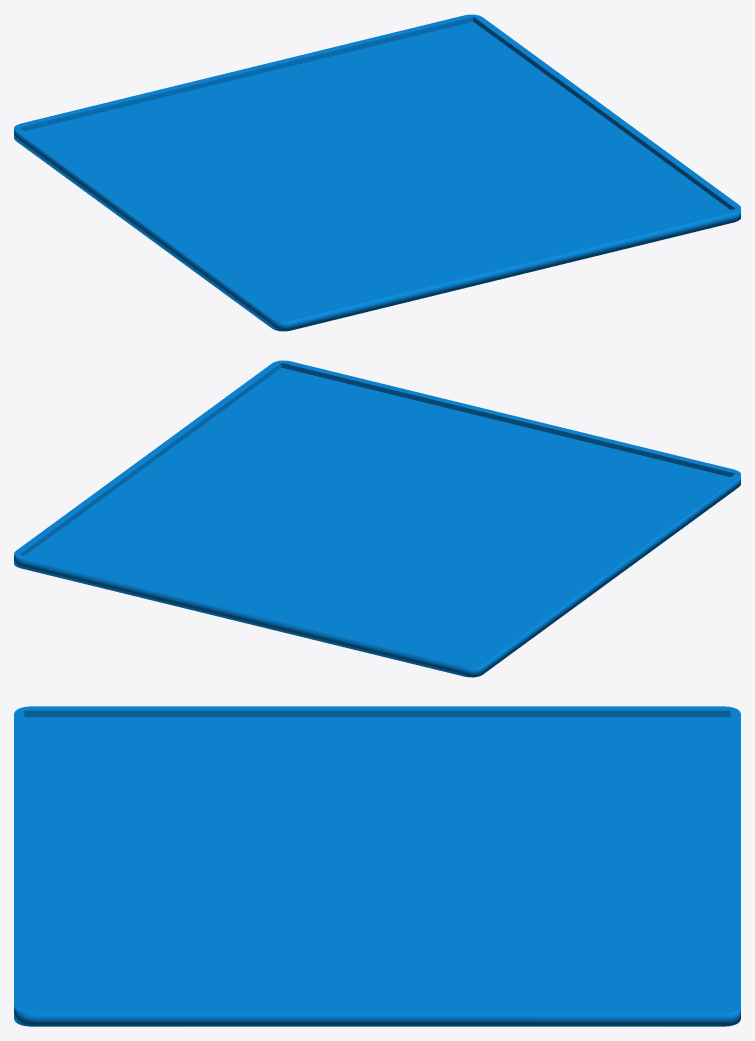
File: rubberwork.fbx
3 views of the same model, one above another, from view 1: azimuth 30°, elevation 25°; view 2: azimuth 150°, elevation 25°; view 3: azimuth 270°, elevation 25° (orthographic). The views are drawn at different scales.
Visible parts, largest first — view 1: rubberWork; view 2: rubberWork; view 3: rubberWork.
Boxes of the visible parts, <box> form: rubberWork: <box>14,14,740,331</box>; rubberWork: <box>14,360,740,677</box>; rubberWork: <box>14,706,740,1026</box>.
Bounding box in the file's own units: 100 × 100 × 2.
